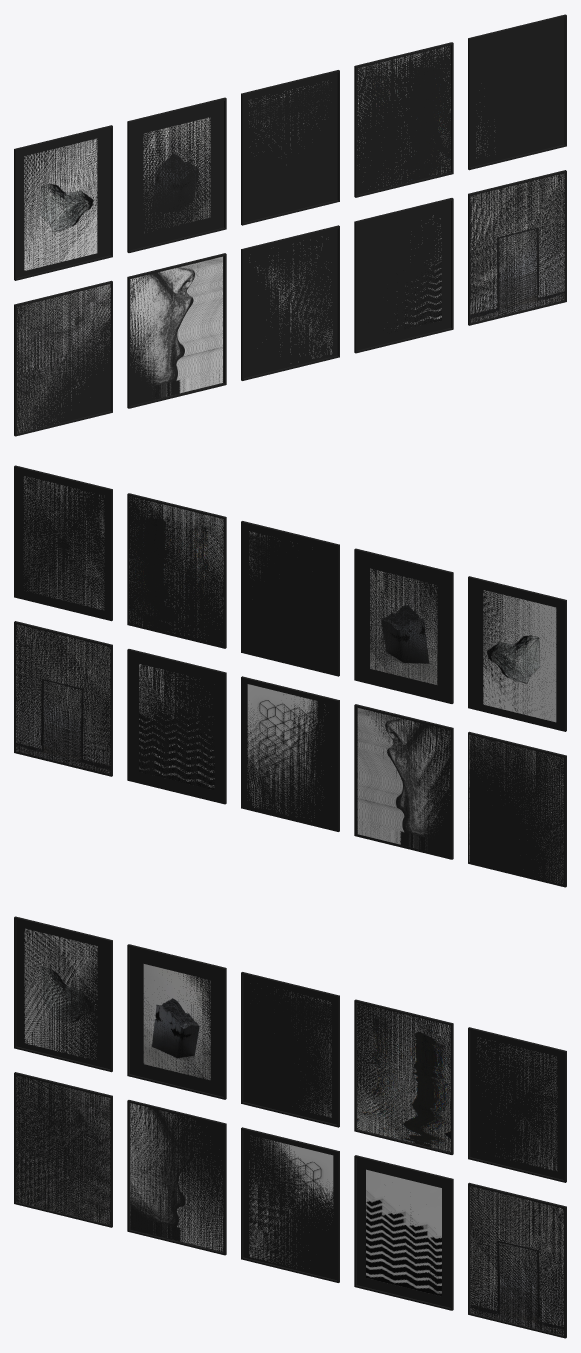
The model's file is black+and+white+pictures.fbx.
3 views of the same model, one above another, from view 1: azimuth 30°, elevation 25°; view 2: azimuth 150°, elevation 25°; view 3: azimuth 330°, elevation 25° (orthographic).
Visible parts, largest first — view 1: Group_1_6, Group_1_10, Group_1_3, Group_1_9, Group_1_2, Group_1_5, Group_1_7, Group_1_1, Group_1_4, Group9, Group5, Group6 (+6 smaller); view 2: Group_1_6, Group_1_10, Group_1_5, Group_1_9, Group_1_1, Group_1_2, Group_1_3, Group_1_7, Group9, Group_1_4, Group5, Group6 (+7 smaller); view 3: Group_1_10, Group_1_9, Group_1_1, Group_1_2, Group_1_5, Group_1_8, Group_1_4, Group_1_7, Group11, Group_1_3, Group7, Group9 (+7 smaller).
Boxes of the visible parts, box(x1,y1,x2,y2) form: Group_1_6: box(354, 198, 453, 353); Group_1_10: box(354, 42, 453, 197); Group_1_3: box(127, 97, 226, 252); Group_1_9: box(468, 14, 566, 170); Group_1_2: box(241, 70, 339, 225); Group_1_5: box(468, 170, 566, 325); Group_1_7: box(241, 225, 339, 380); Group_1_1: box(14, 280, 112, 436); Group_1_4: box(14, 125, 112, 280); Group9: box(130, 256, 222, 398); Group5: box(24, 138, 97, 270); Group6: box(470, 174, 564, 322); Group_1_6: box(127, 649, 226, 804); Group_1_10: box(127, 493, 226, 648); Group_1_5: box(14, 621, 112, 776); Group_1_9: box(14, 465, 112, 621); Group_1_1: box(468, 731, 566, 887); Group_1_2: box(241, 521, 339, 676); Group_1_3: box(354, 548, 453, 703); Group_1_7: box(241, 676, 339, 831); Group9: box(357, 708, 450, 851); Group_1_4: box(468, 576, 566, 731); Group5: box(483, 590, 556, 722); Group6: box(16, 624, 110, 774); Group_1_10: box(354, 999, 453, 1154); Group_1_9: box(468, 1027, 566, 1182); Group_1_1: box(14, 1072, 112, 1227); Group_1_2: box(241, 972, 339, 1127); Group_1_5: box(468, 1182, 566, 1338); Group_1_8: box(127, 1100, 226, 1255); Group_1_4: box(14, 916, 112, 1072); Group_1_7: box(241, 1127, 339, 1282); Group11: box(357, 1003, 450, 1151); Group_1_3: box(127, 944, 226, 1099); Group7: box(366, 1169, 441, 1296); Group9: box(130, 1103, 223, 1251).
Bounding box in the file's own units: 3525 × 1750 × 15.
